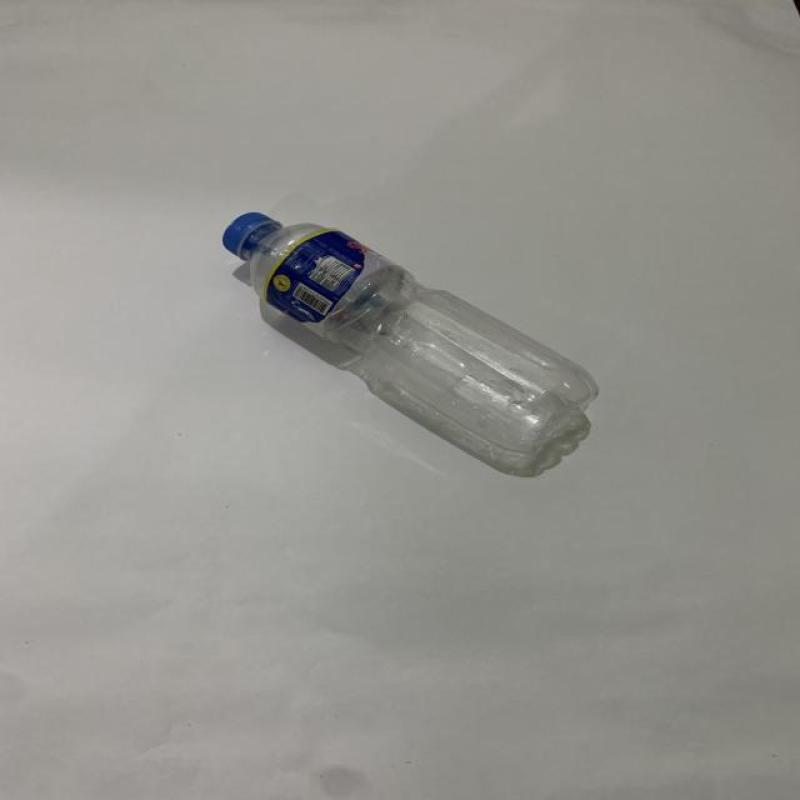botella: (222, 212, 594, 480)
